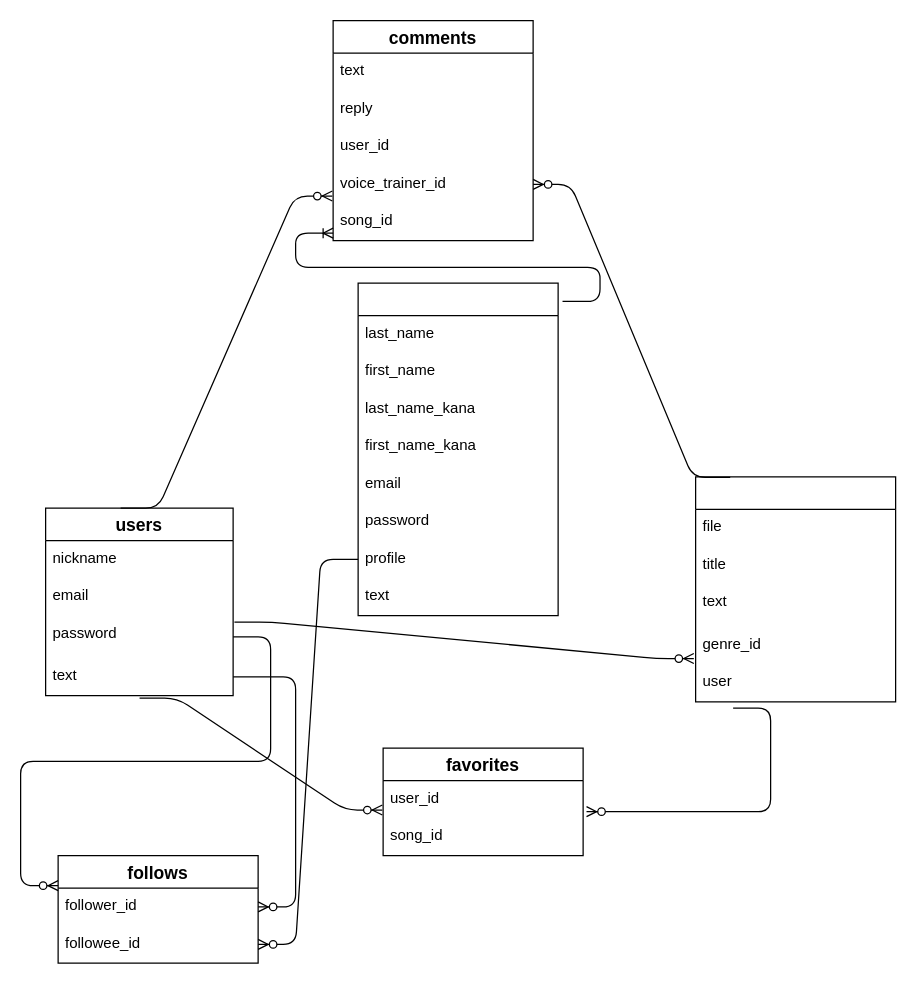
The diagram is 916 pixels wide and 984 high, and some of its shapes have lost their labels. Here are the shapes that lost their labels. From the top down, the box of each, then its label:
(357, 282, 558, 616): voice_trainers
(694, 476, 896, 702): songs
